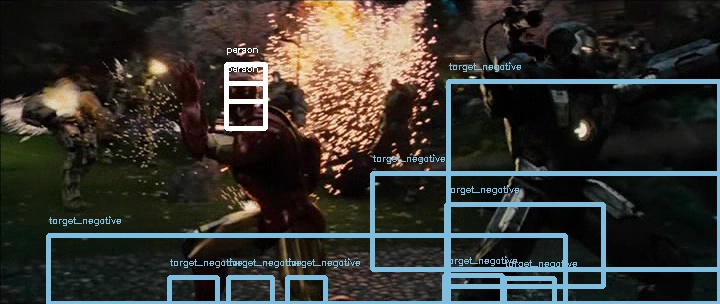person: (216, 66, 258, 116), (215, 66, 257, 116), (217, 66, 259, 116), (216, 65, 258, 115), (216, 67, 258, 117)
target_negative: (442, 205, 713, 301), (328, 62, 588, 153), (211, 204, 496, 270), (82, 36, 232, 149), (138, 19, 202, 96), (659, 170, 720, 236)
